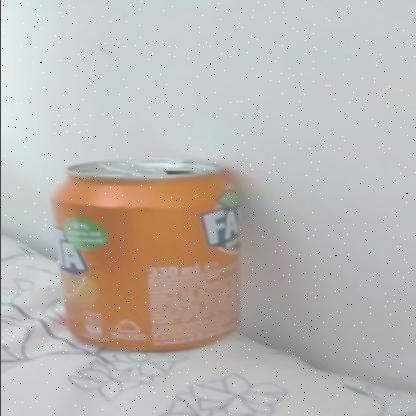Can: (50, 158, 242, 352)
